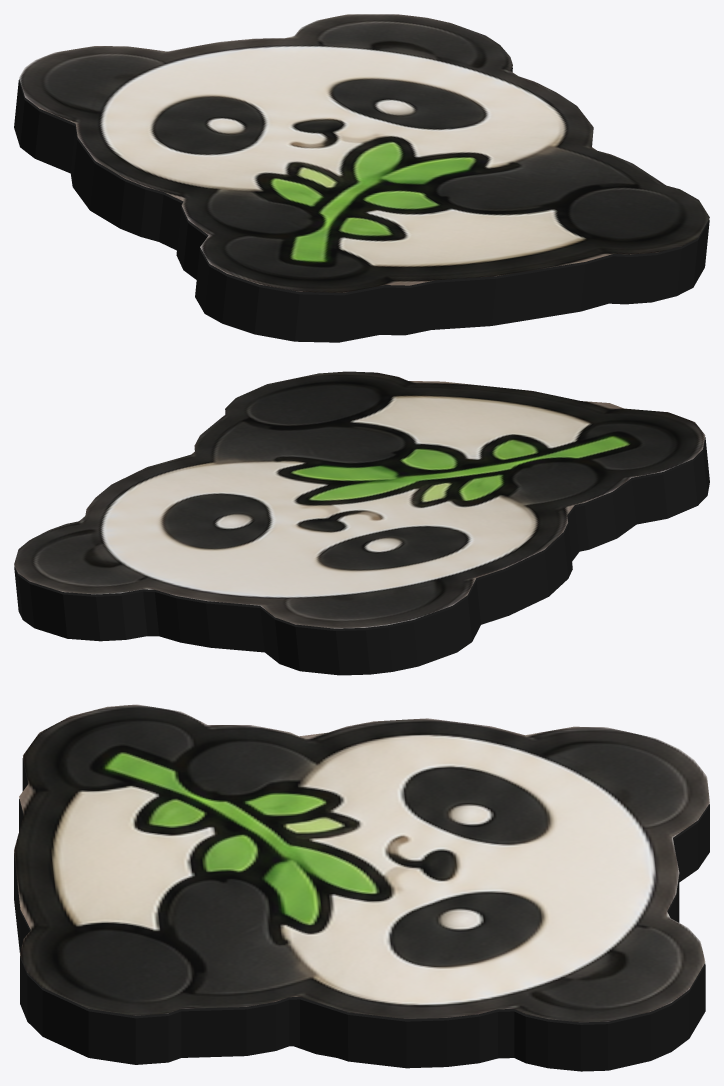
File: animals-panda.glb
The picture shows the model from 3 angles, top to bottom: view 1: azimuth 30°, elevation 25°; view 2: azimuth 150°, elevation 25°; view 3: azimuth 270°, elevation 25°; orthographic projection. The views are drawn at different scales.
Parts seen in each view (by area): view 1: ANIMALS_Panda_MODEL; view 2: ANIMALS_Panda_MODEL; view 3: ANIMALS_Panda_MODEL.
Part boxes in pixels (bbox=[...]): ANIMALS_Panda_MODEL: bbox=[14, 14, 709, 342]; ANIMALS_Panda_MODEL: bbox=[14, 371, 709, 675]; ANIMALS_Panda_MODEL: bbox=[14, 704, 709, 1071].
Bounding box in the file's own units: 0.2897 × 0.0979 × 0.3259.
3 materials, 1 textured.
